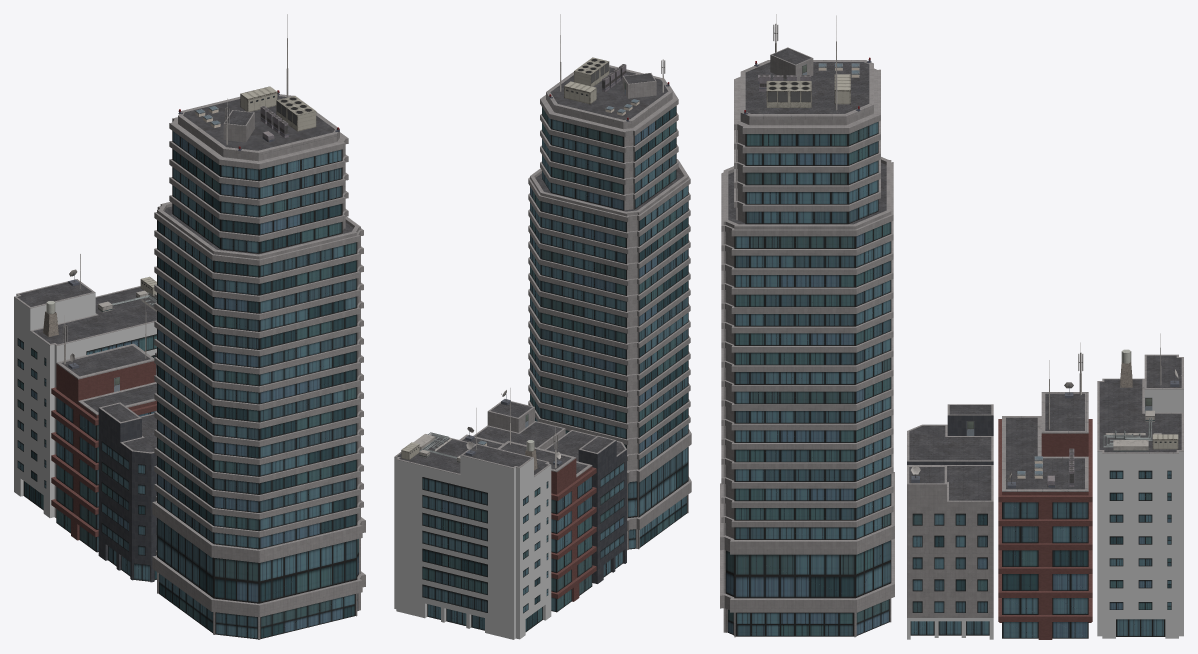
The model's file is buildSetC.FBX.
3 views of the same model, side by side, from view 1: azimuth 30°, elevation 25°; view 2: azimuth 150°, elevation 25°; view 3: azimuth 270°, elevation 25° (orthographic). The views are drawn at different scales.
Visible parts, largest first — view 1: buildSetC; view 2: buildSetC; view 3: buildSetC.
Boxes of the visible parts, left/top/right/bottom form: buildSetC: left=14, top=14, right=365, bottom=639; buildSetC: left=394, top=14, right=691, bottom=639; buildSetC: left=720, top=14, right=1183, bottom=639.
Size of what is drawn, in the model's own units: 916 by 2303 by 3330.
